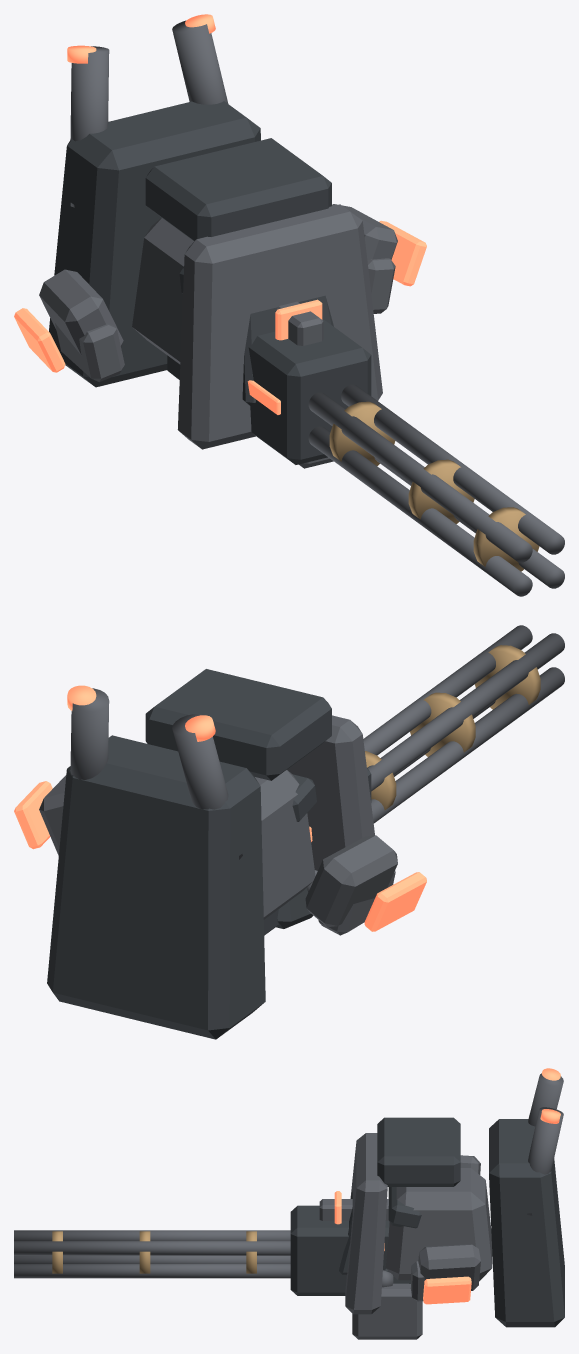
Rendered from boss_kronos_kit.glb.
3 renders of one model, top to bottom at view 1: azimuth 30°, elevation 25°; view 2: azimuth 150°, elevation 25°; view 3: azimuth 270°, elevation 25°, orthographic. The views are drawn at different scales.
Visible parts, largest first — view 1: ChestHull, ReactorPack, HeavyCollar, GatReceiver, Barrel_-0.026_0.036, DreadCrown, Barrel_-0.026_-0.016, Barrel_0.026_0.036, KR_Pauldron_-1_Cap, ExhaustPipe_-1, ExhaustPipe_1, KR_Pauldron_-1_Lower (+11 smaller); view 2: ReactorPack, HeavyCollar, ChestHull, DreadCrown, KR_Pauldron_-1_Cap, Barrel_-0.026_0.036, Barrel_-0.026_-0.016, Barrel_0.026_0.036, ExhaustPipe_-1, ExhaustPipe_1, KR_Pauldron_-1_Trim, KR_Pauldron_1_Trim (+9 smaller); view 3: ReactorPack, DreadCrown, ChestHull, HeavyCollar, GatReceiver, Barrel_0.026_0.036, Barrel_0.026_-0.016, GatAmmoBox, Barrel_-0.026_0.036, Barrel_-0.026_-0.016, KR_Pauldron_1_Cap, ExhaustPipe_1 (+8 smaller).
Part boxes in pixels (box(x1,y1,x2,y2)): ChestHull: box(177, 204, 382, 449); ReactorPack: box(49, 101, 260, 387); HeavyCollar: box(145, 138, 331, 241); GatReceiver: box(167, 319, 371, 464); Barrel_-0.026_0.036: box(308, 392, 532, 562); DreadCrown: box(132, 217, 193, 364); Barrel_-0.026_-0.016: box(308, 426, 532, 596); Barrel_0.026_0.036: box(341, 384, 564, 554); KR_Pauldron_-1_Cap: box(39, 269, 123, 354); ExhaustPipe_-1: box(70, 46, 109, 207); ExhaustPipe_1: box(172, 20, 228, 104); KR_Pauldron_-1_Lower: box(55, 323, 124, 382); ReactorPack: box(47, 735, 265, 1039); HeavyCollar: box(145, 669, 331, 780); ChestHull: box(287, 715, 374, 870); DreadCrown: box(255, 770, 315, 919); KR_Pauldron_-1_Cap: box(305, 835, 397, 927); Barrel_-0.026_0.036: box(367, 633, 564, 791); Barrel_-0.026_-0.016: box(371, 667, 564, 823); Barrel_0.026_0.036: box(363, 625, 532, 755); ExhaustPipe_-1: box(172, 714, 242, 859); ExhaustPipe_1: box(70, 688, 109, 779); KR_Pauldron_-1_Trim: box(364, 872, 426, 931); KR_Pauldron_1_Trim: box(14, 781, 52, 849); ReactorPack: box(489, 1119, 564, 1327); DreadCrown: box(385, 1168, 492, 1280); ChestHull: box(345, 1133, 387, 1314); HeavyCollar: box(377, 1117, 460, 1186); GatReceiver: box(290, 1205, 389, 1295); Barrel_0.026_0.036: box(14, 1241, 290, 1255); Barrel_0.026_-0.016: box(14, 1264, 290, 1278); GatAmmoBox: box(352, 1283, 422, 1339); Barrel_-0.026_0.036: box(14, 1230, 290, 1240); Barrel_-0.026_-0.016: box(14, 1255, 290, 1263); KR_Pauldron_1_Cap: box(418, 1244, 480, 1290); ExhaustPipe_1: box(527, 1107, 563, 1215).
Size of the model in its own units: 0.6242 by 0.5172 by 1.14.
